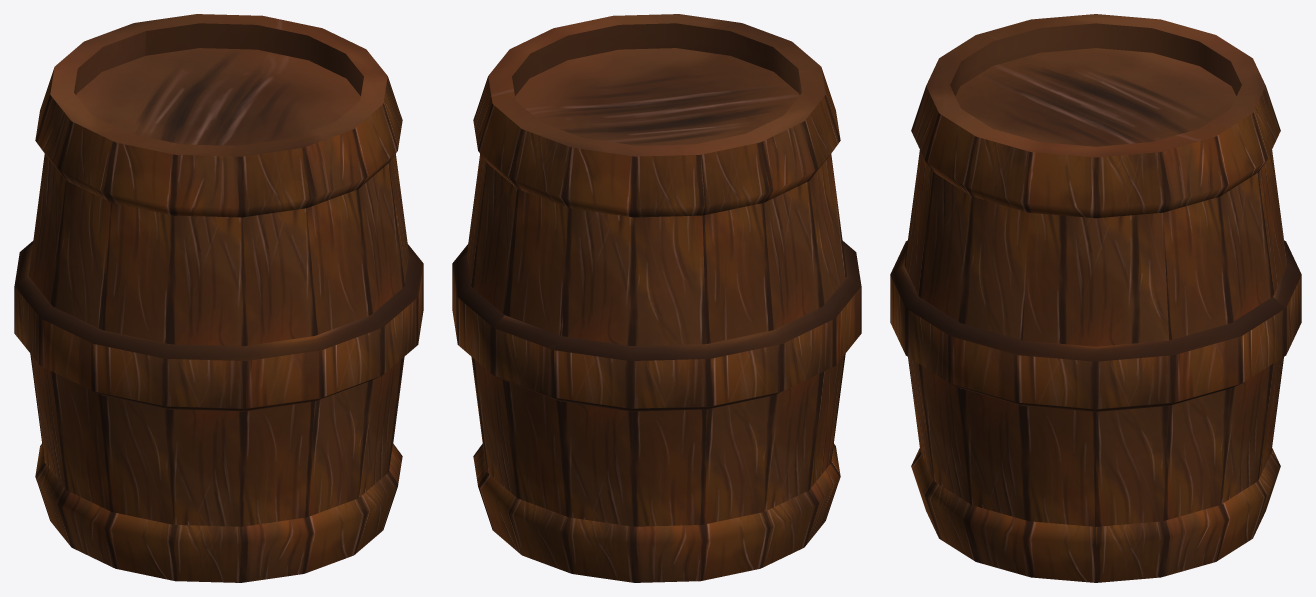
File: barrel_done.fbx
3 renders of one model, left to right at view 1: azimuth 30°, elevation 25°; view 2: azimuth 150°, elevation 25°; view 3: azimuth 270°, elevation 25°, orthographic.
Visible parts, largest first — view 1: bigbarrel:Mod_BigBarrel; view 2: bigbarrel:Mod_BigBarrel; view 3: bigbarrel:Mod_BigBarrel.
Part boxes in pixels (x1,y1,x2,y2): bigbarrel:Mod_BigBarrel: (14, 14, 423, 582); bigbarrel:Mod_BigBarrel: (452, 14, 861, 582); bigbarrel:Mod_BigBarrel: (890, 14, 1301, 582).
Size of the model in its own units: 89.45 by 102 by 89.45.
Materials: 1 (1 with a texture image).
